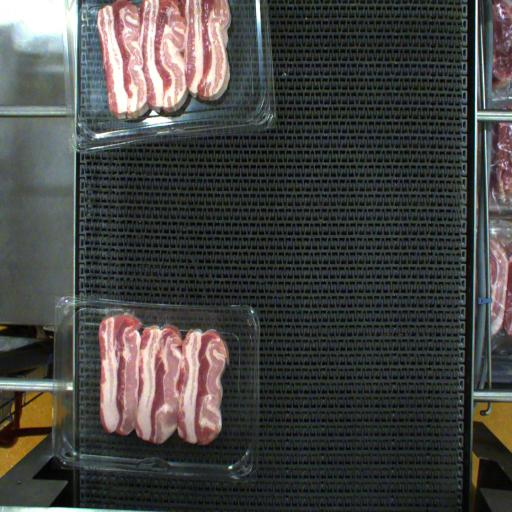packaging-error: (98, 296, 141, 333)
